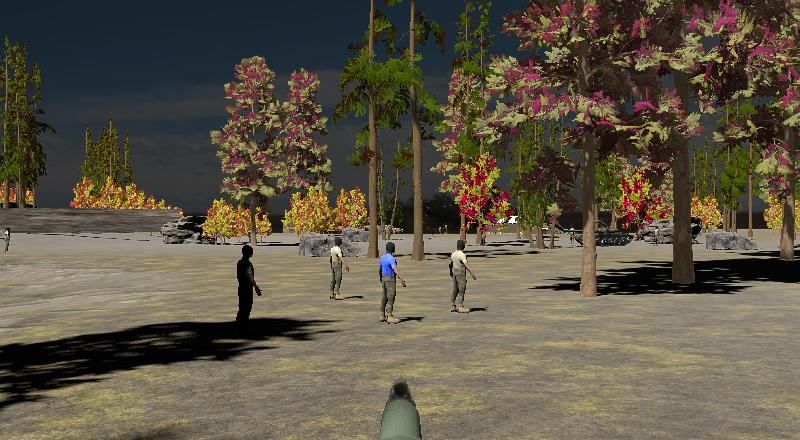Human: (447, 236, 478, 314), (379, 240, 407, 324), (329, 236, 349, 301), (1, 225, 12, 256)
Tank: (563, 223, 637, 249)
